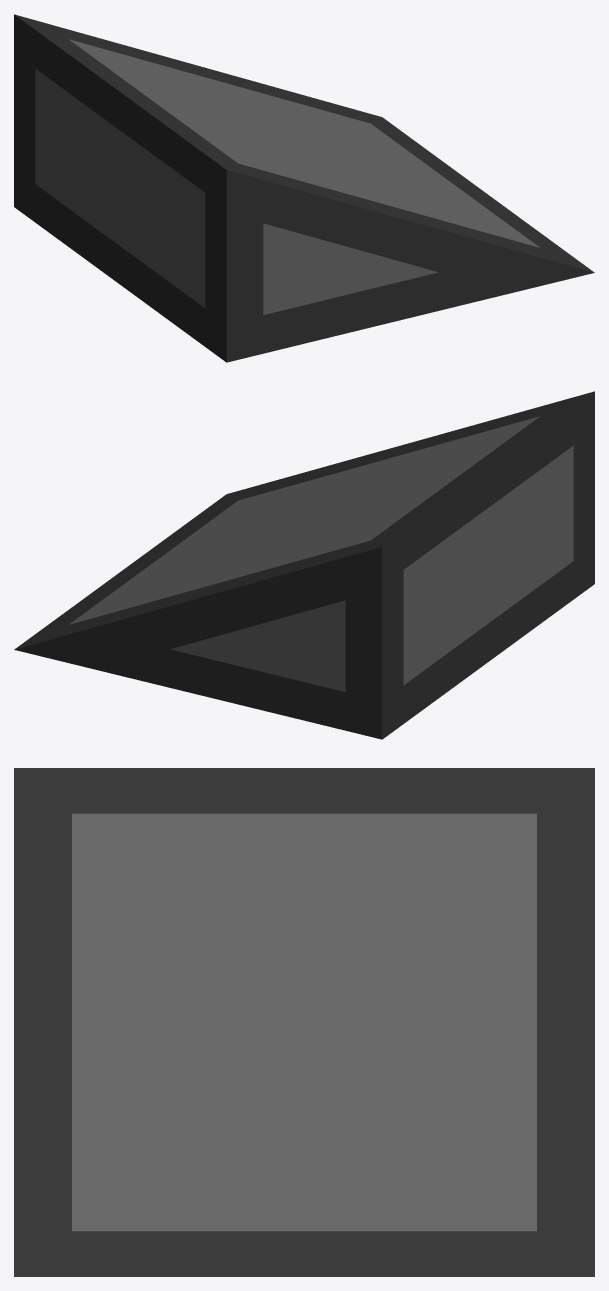
File: FoundationRamp.fbx
The picture shows the model from 3 angles, top to bottom: view 1: azimuth 30°, elevation 25°; view 2: azimuth 150°, elevation 25°; view 3: azimuth 270°, elevation 25°; orthographic projection. The views are drawn at different scales.
Visible parts, largest first — view 1: Plane.002; view 2: Plane.002; view 3: Plane.002.
Boxes of the visible parts, x1,y1,x2,y2 form: Plane.002: [14, 14, 594, 362]; Plane.002: [14, 391, 594, 739]; Plane.002: [14, 768, 594, 1276].
Size of the model in its own units: 1000 by 500 by 1000.
